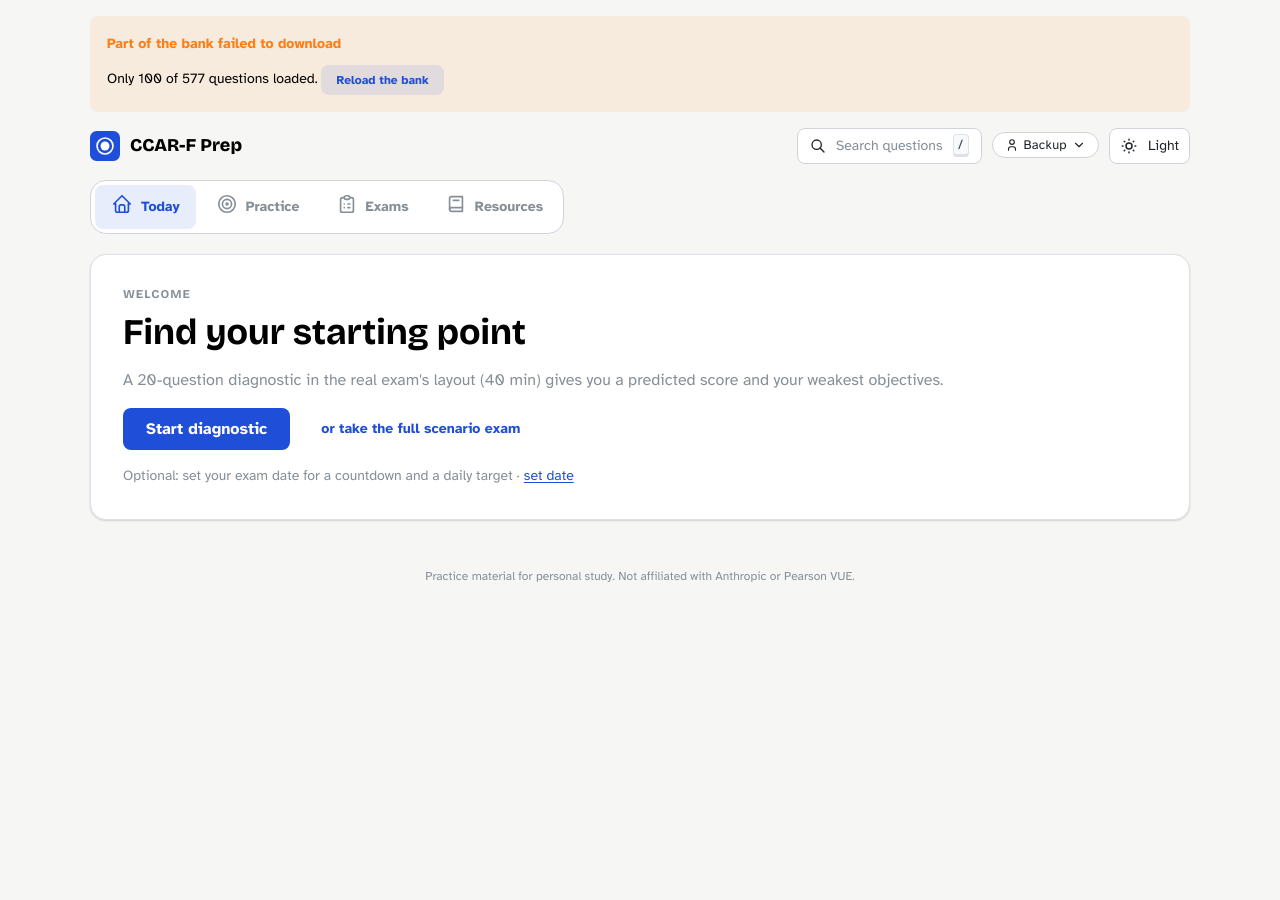
Test case: sessions › the mock exam draws 60 mapped questions with a timer
Step 1. Click the button "Exams" → (372, 207), box 320,185 -> 425,229
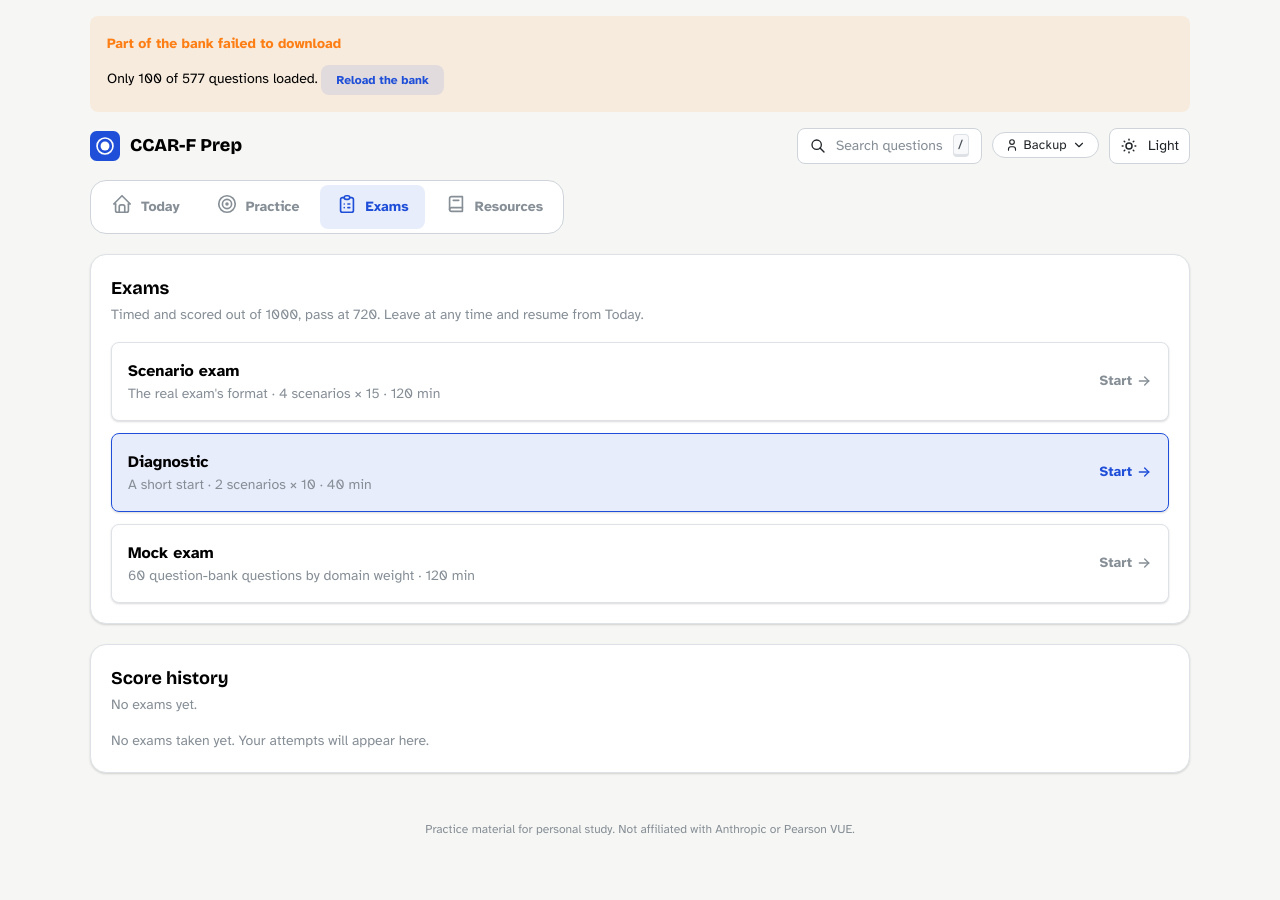
Step 2. Click the button that starts with "Mock exam" → (640, 564), box 111,524 -> 1169,603
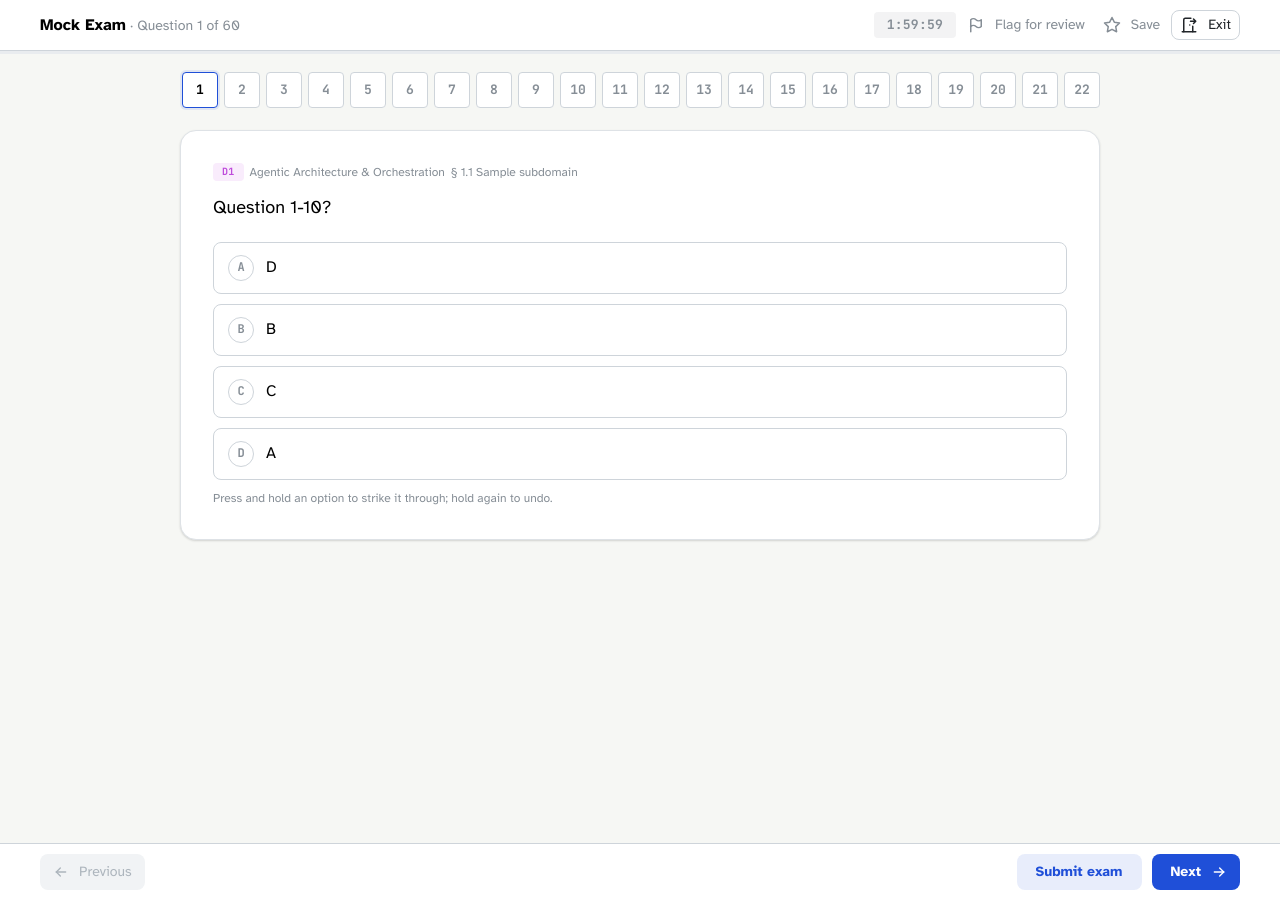
expect the element with id "timer" is shown: met, box 874,12 -> 956,38
